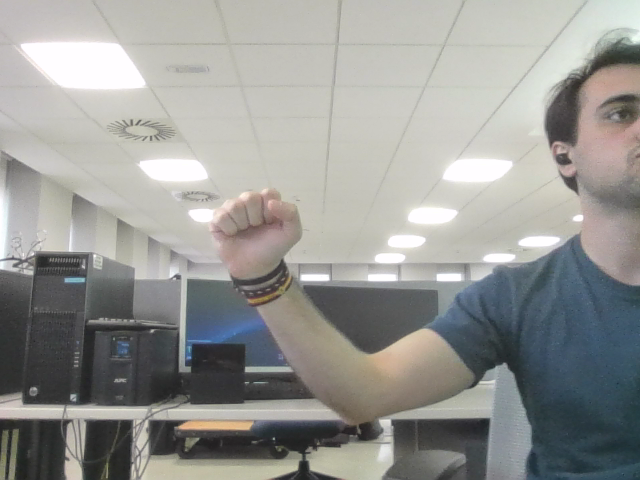Puño: (221, 193, 289, 254)
